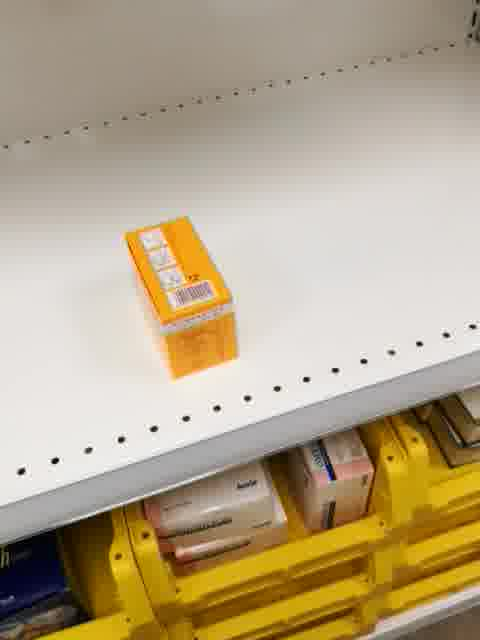jasminetea: (123, 216, 238, 380)
